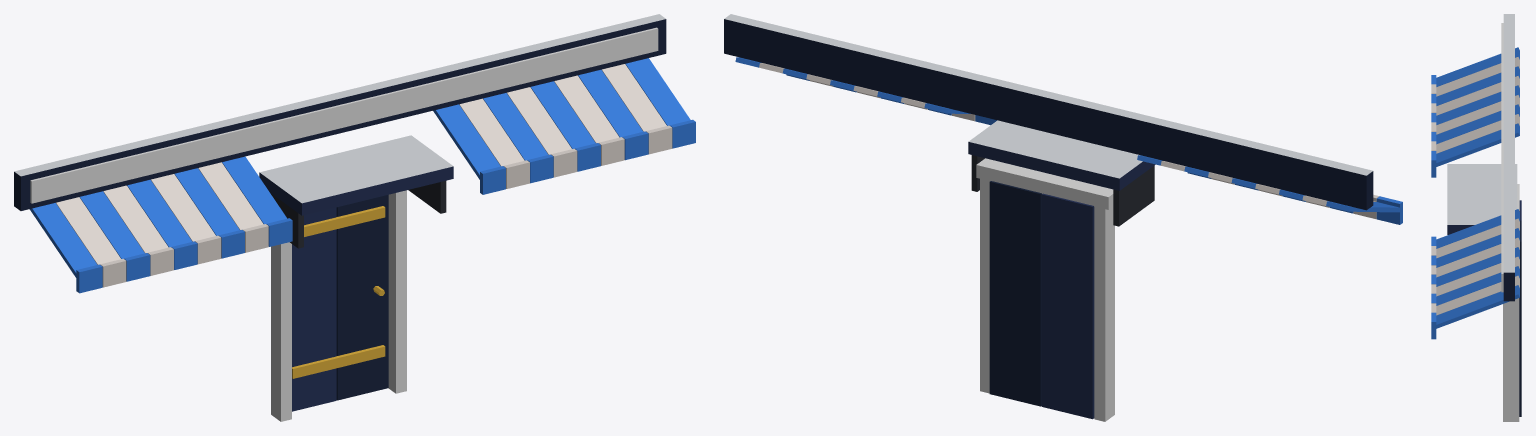
The model's file is Apartment_Tower_Shopfront.glb.
3 views of the same model, side by side, from view 1: azimuth 30°, elevation 25°; view 2: azimuth 150°, elevation 25°; view 3: azimuth 270°, elevation 25° (orthographic). The views are drawn at different scales.
Parts seen in each view (by area): view 1: Apartment_Tower_Shopfront; view 2: Apartment_Tower_Shopfront; view 3: Apartment_Tower_Shopfront.
Boxes of the visible parts, x1,y1,x2,y2 form: Apartment_Tower_Shopfront: (14, 14, 695, 421); Apartment_Tower_Shopfront: (724, 14, 1402, 421); Apartment_Tower_Shopfront: (1431, 14, 1521, 421).
Bounding box in the file's own units: 27.2 × 12.43 × 4.02.
